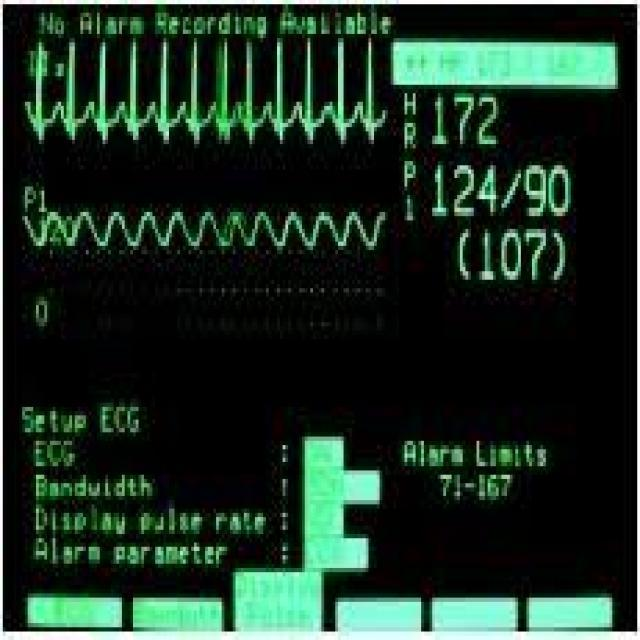cardiac_monitor: (17, 13, 618, 608)
